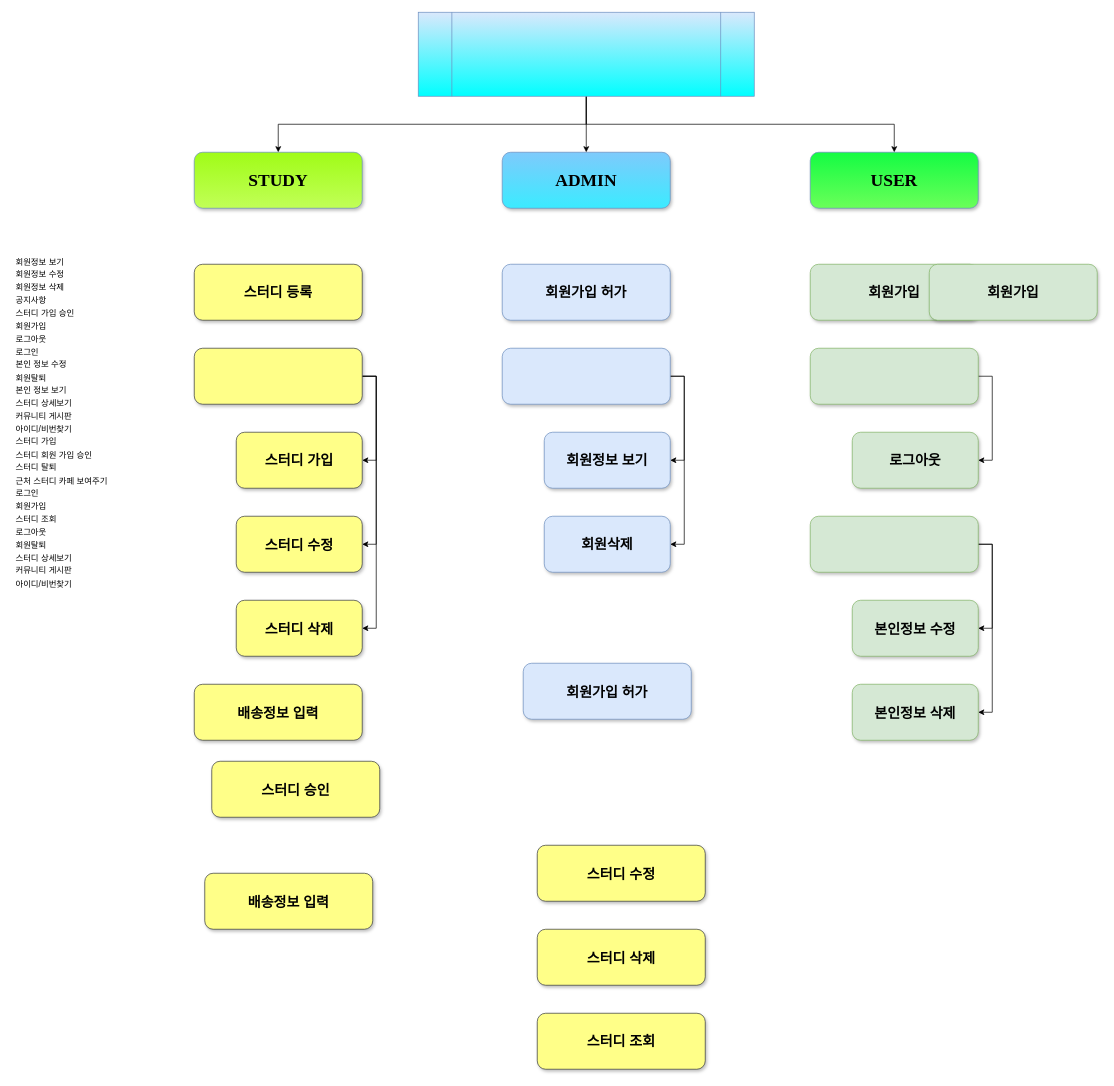
Image size: 1114x1086. Some labels were removed from this diagram. The centre of each missing label's shape, as x and y in pixels:
"StudyTime" goes at [586,54].
"로그인" goes at [894,377].
"본인정보 보기" goes at [894,545].
"상품 상세보기" goes at [278,377].
"회원관리" goes at [586,377].
